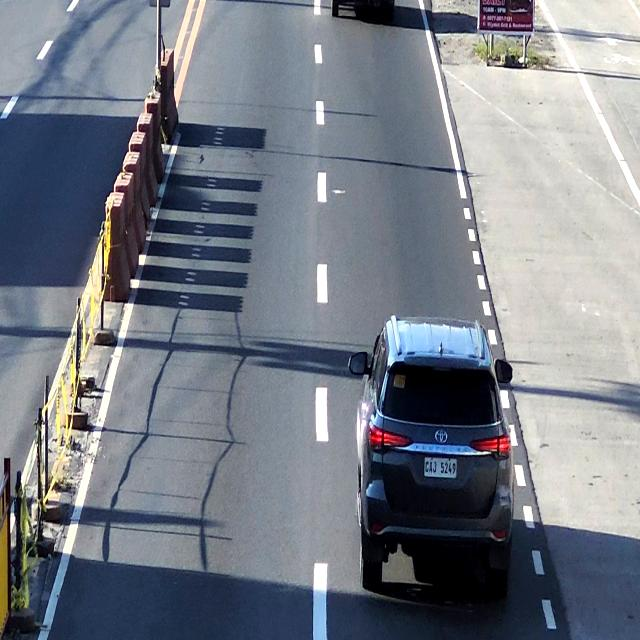Car: (360, 318, 510, 595)
License-Plate: (423, 453, 458, 482)
